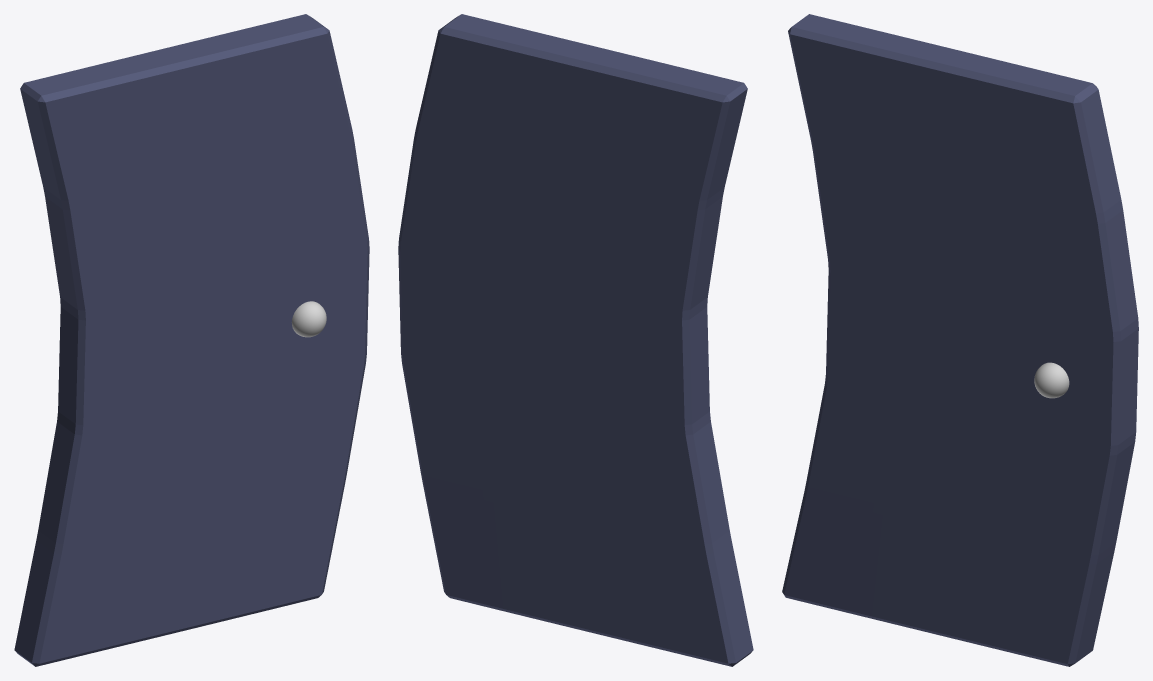
Rendered from door_sty.fbx.
3 views of the same model, side by side, from view 1: azimuth 30°, elevation 25°; view 2: azimuth 150°, elevation 25°; view 3: azimuth 330°, elevation 25° (orthographic).
Visible parts, largest first — view 1: Cube.040, Cube.043; view 2: Cube.040; view 3: Cube.040, Cube.043.
Part boxes in pixels (box(x1,y1,x2,y2)): Cube.040: box(14, 14, 369, 666); Cube.043: box(291, 301, 326, 337); Cube.040: box(398, 14, 753, 666); Cube.040: box(782, 14, 1138, 666); Cube.043: box(1034, 362, 1069, 398).
Size of the model in its own units: 212 by 342 by 35.97.
